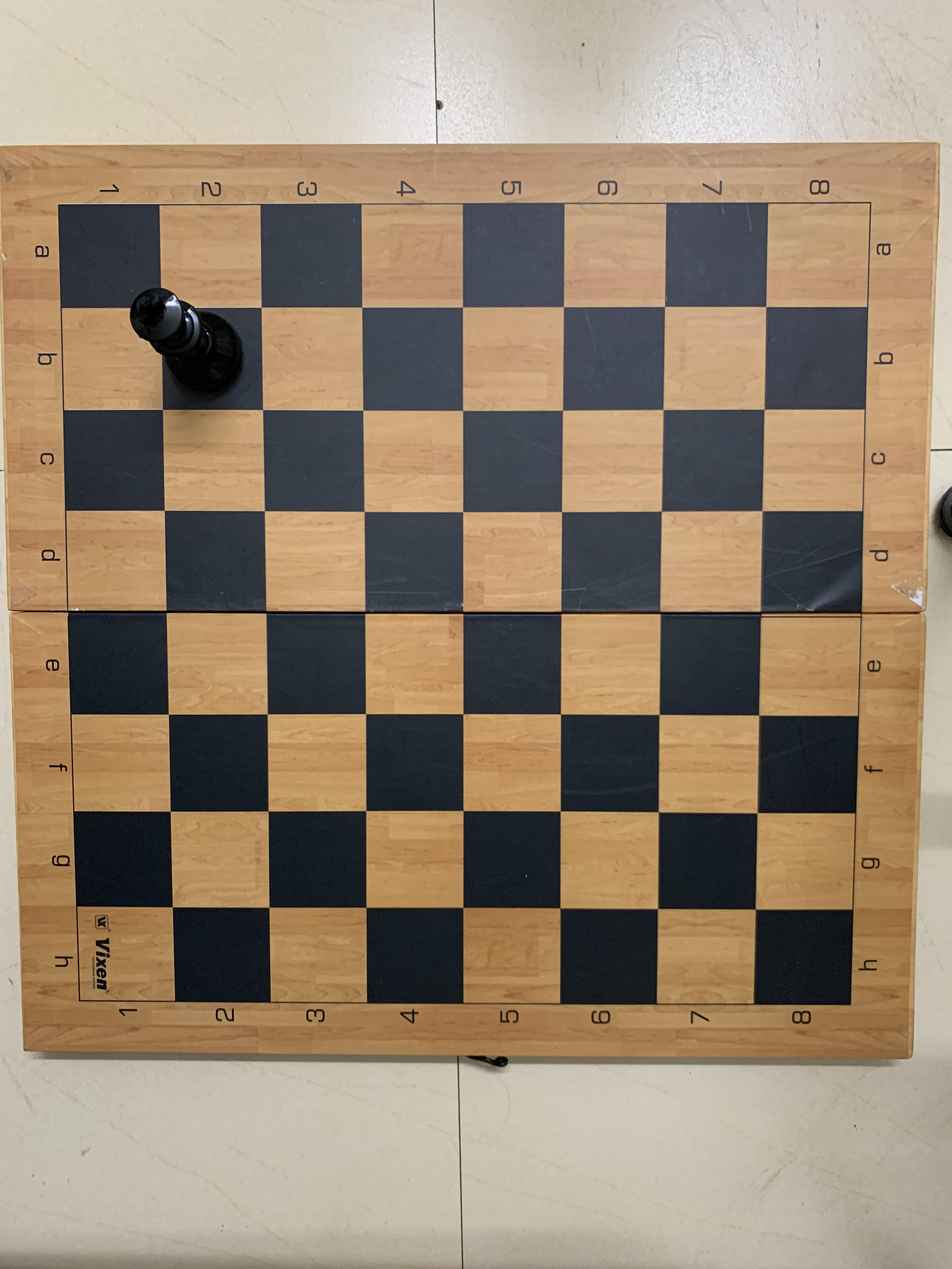black_king: (115, 275, 260, 411)
